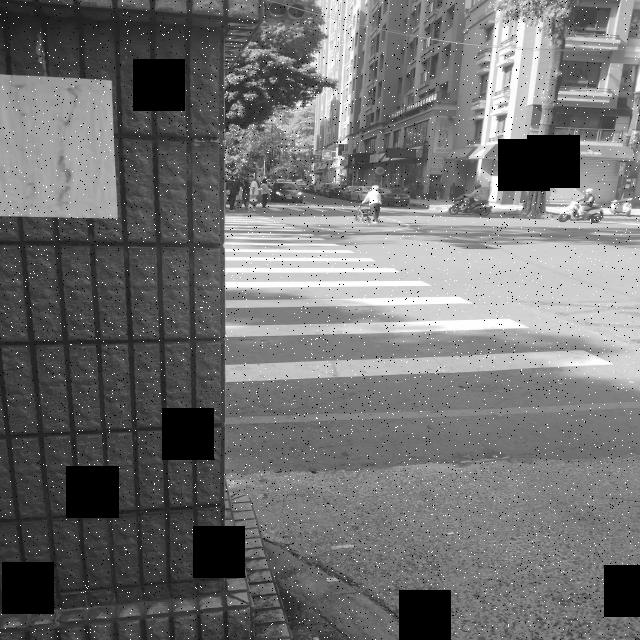person: (362, 185, 382, 222), (574, 189, 594, 220), (224, 176, 241, 211), (462, 182, 483, 209), (259, 179, 271, 208), (249, 178, 259, 211)
zebra crossing: (222, 215, 608, 383)
